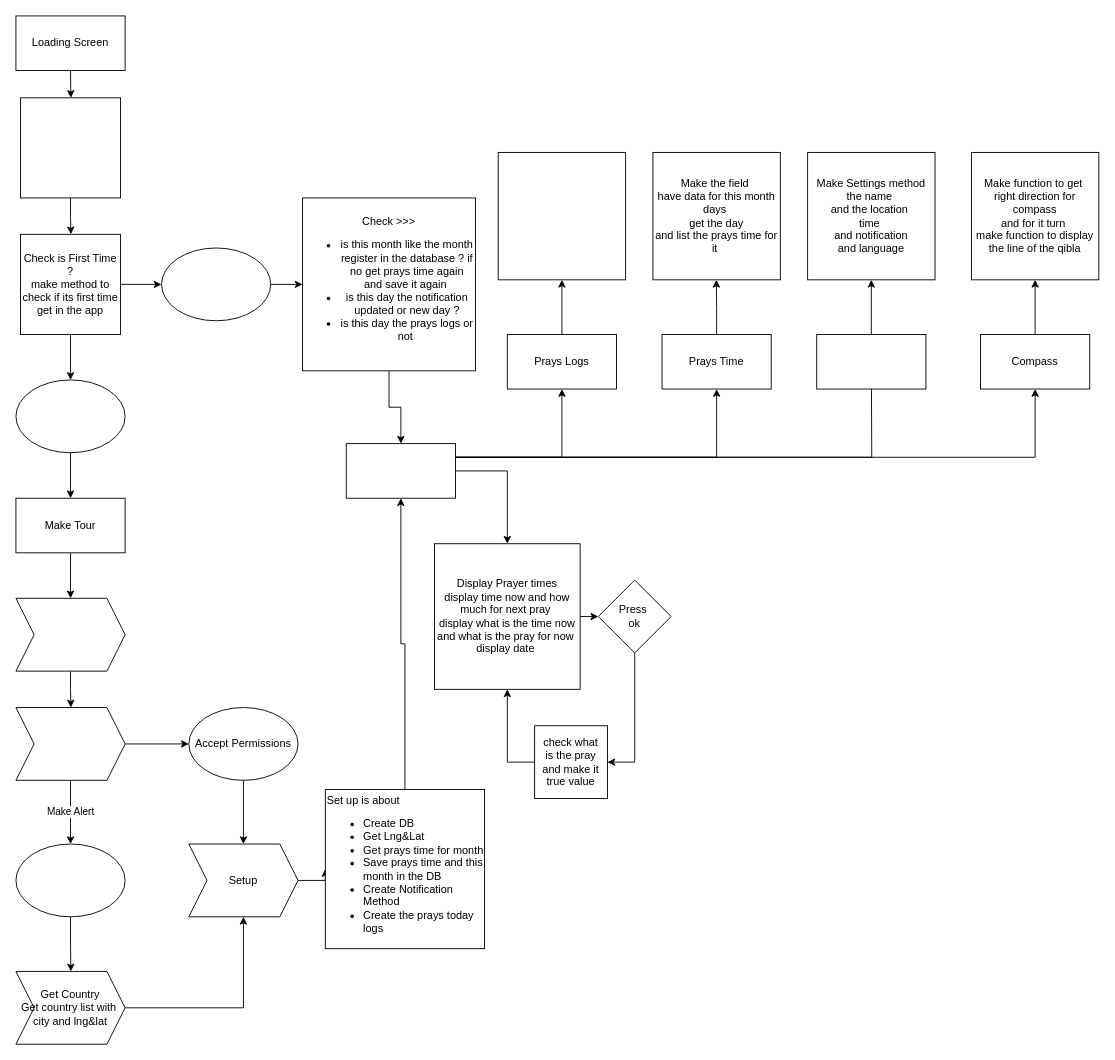
The diagram is 1115 pixels wide and 1060 high, and some of its shapes have lost their labels. Each missing label, with the centre of its shape:
Get Prays logs for today yesterday last 7 days month: point 561,216
Home: point 400,470
Load Assets Get Fonts Get Locale: point 70,147
Name Get name and save it in storage local storage: point 70,634
No: point 216,284
Not Accept: point 70,880
Permissions Get Notification Permission And Location Permissions: point 70,743
Settings: point 871,361
Yes: point 70,416
